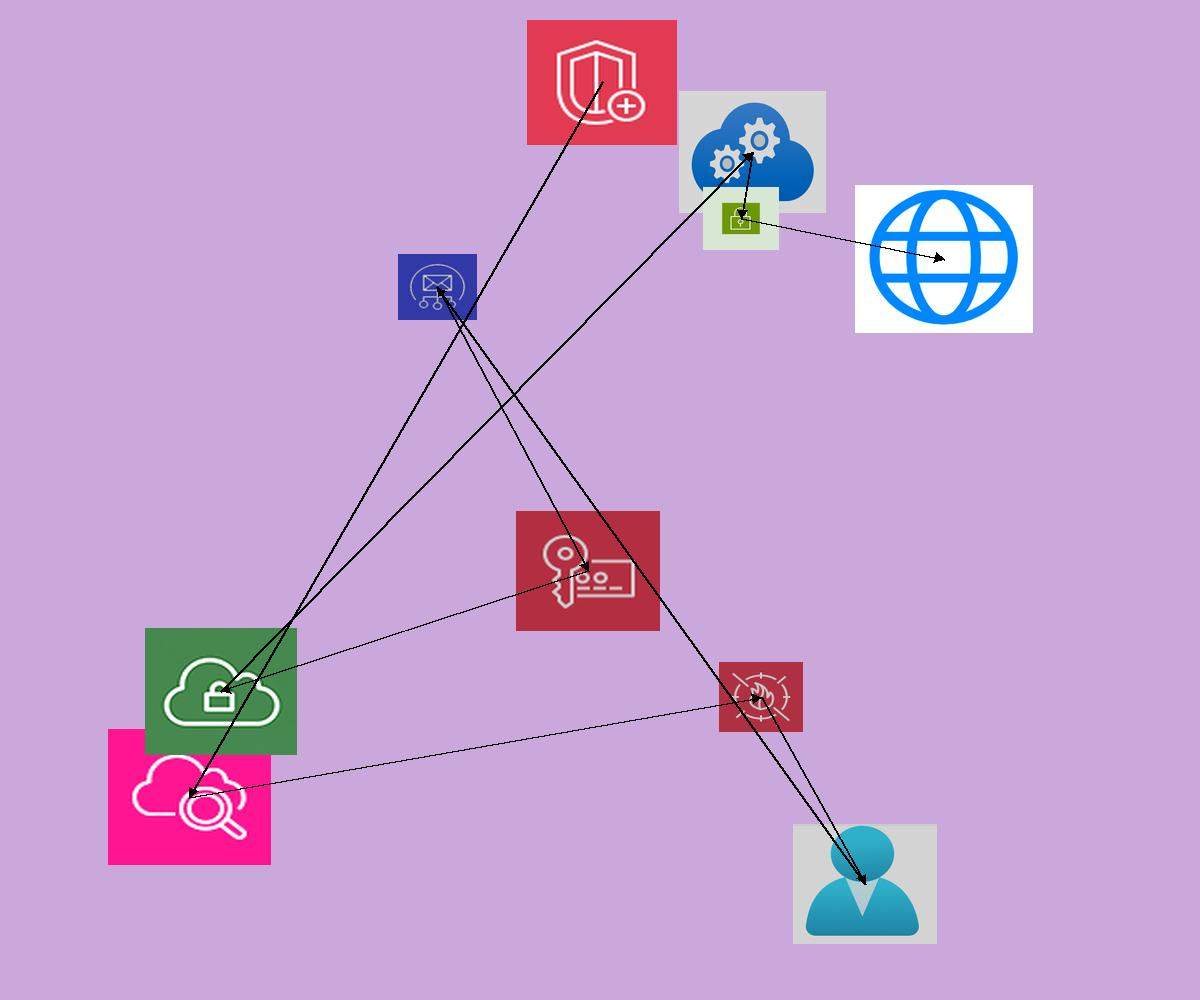AWS-CloudWatch: (108, 729, 271, 865)
AWS-Key-Management-Service: (516, 511, 660, 631)
AWS-Private_vpc: (145, 628, 297, 755)
AWS-Public-subnet: (703, 187, 779, 250)
AWS-Shield: (527, 20, 677, 145)
AWS-Simple-Email-Service: (398, 254, 477, 320)
AWS-WAF: (719, 662, 803, 732)
Azure_cloud_services: (679, 91, 826, 213)
Azure_http: (855, 185, 1033, 333)
Azure_users: (793, 824, 937, 944)
